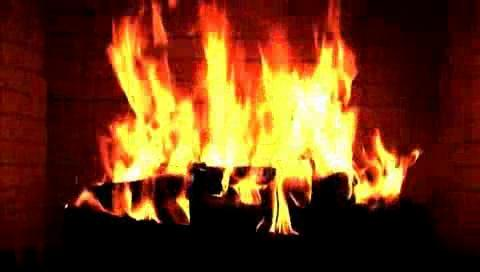fire: (77, 7, 394, 216)
